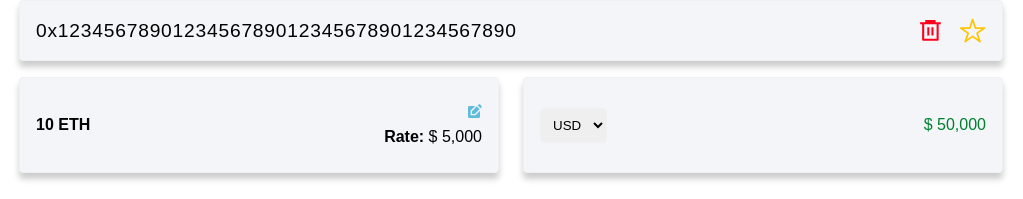
Wallet › should edit the rate when clicking on the edit icon and save the new rate
Step 1. Click the icon with test id "edit-icon" → (474, 112), box 466,104 -> 482,120
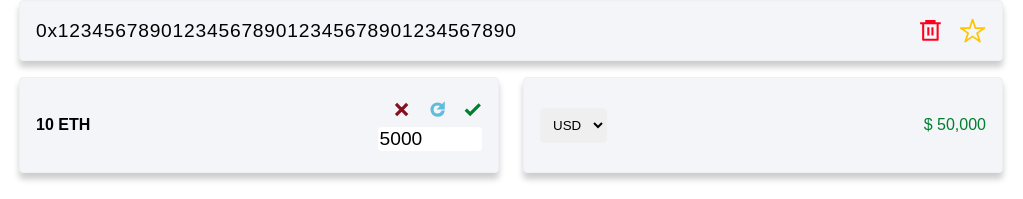
Check: the field with test id "rate-input" is shown
Check: the field showing "5000" is shown
Step 2. Replace the text in the field showing "5000" with "7000" → (430, 139), box 378,127 -> 482,151
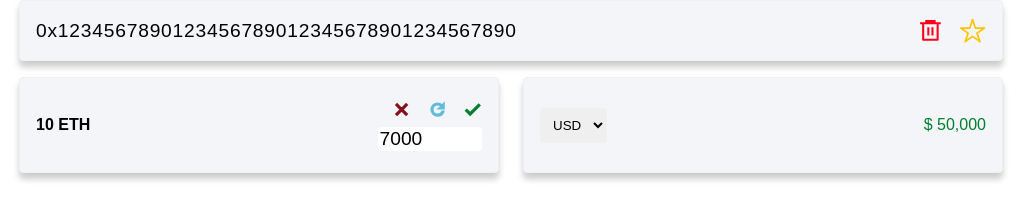
Step 3. Press Enter in the field showing "5000", box 378,127 -> 482,151
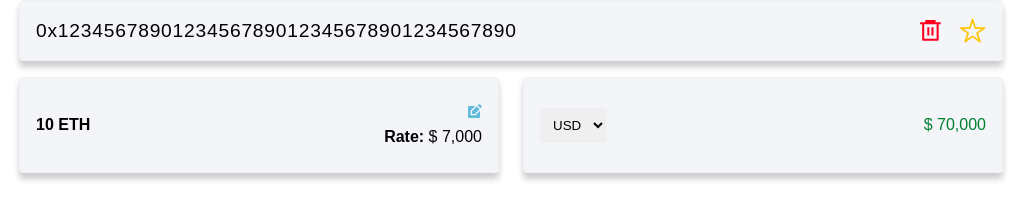
Check: the text "$ 7,000" is shown, box 429,128 -> 482,145
Check: the text "$ 70,000" is shown, box 924,116 -> 986,134
